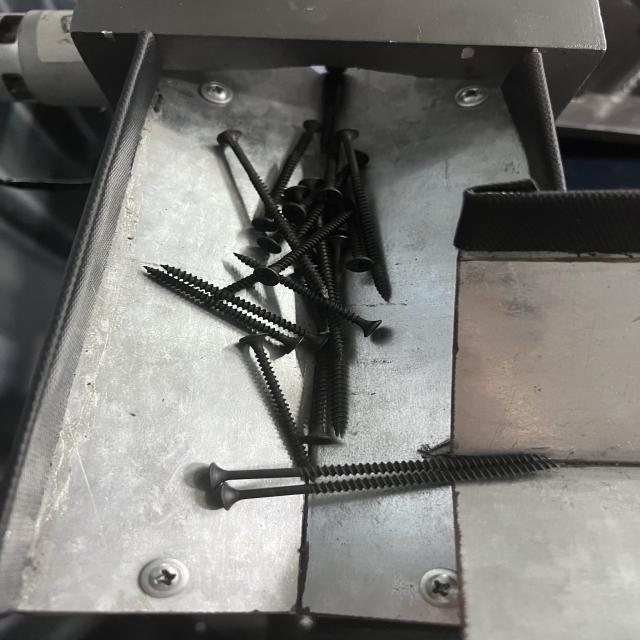screw: (196, 456, 578, 508)
